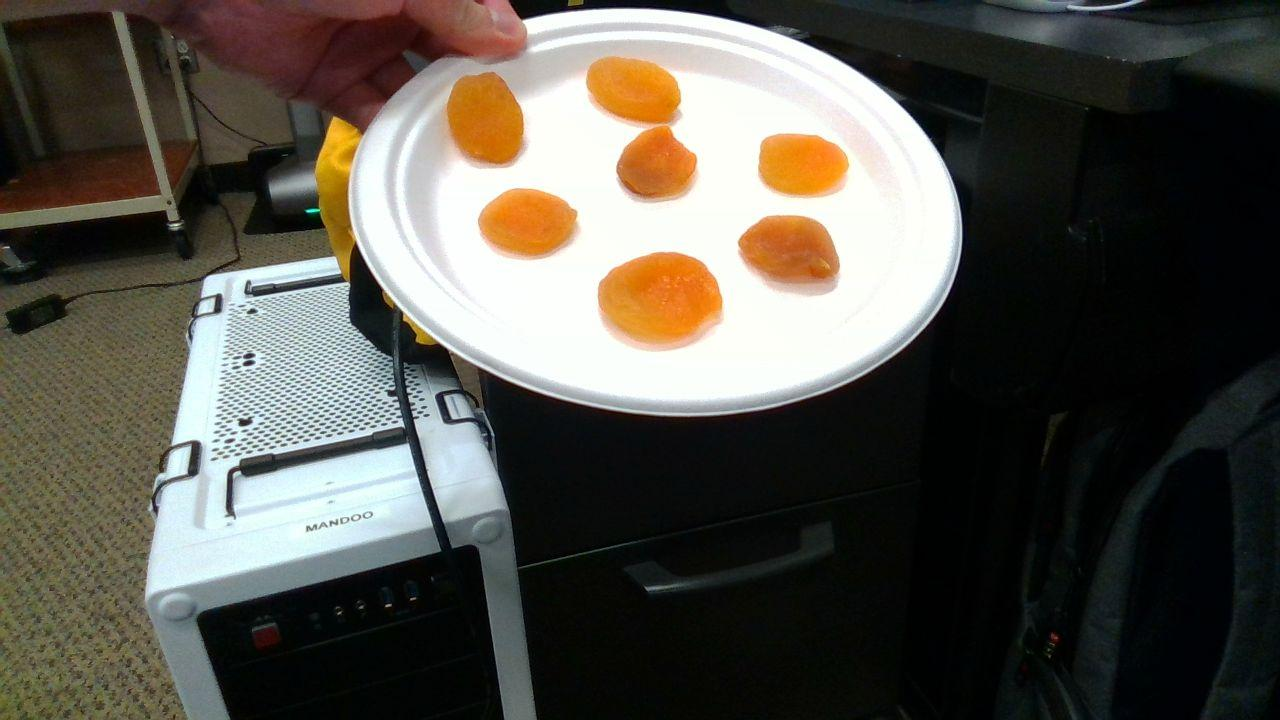apricot: (600, 254, 722, 339), (449, 73, 525, 165), (740, 215, 840, 282), (588, 57, 681, 121), (481, 189, 578, 250), (615, 126, 696, 196), (759, 133, 849, 195)
plate: (349, 8, 963, 415)
